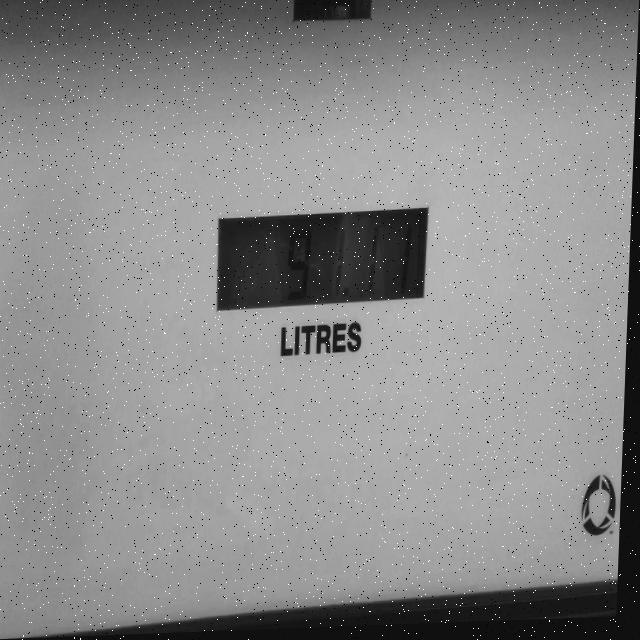.: (394, 227, 422, 304), (362, 223, 388, 300), (344, 281, 356, 312)
1: (324, 229, 351, 308)
9: (283, 223, 321, 309)
